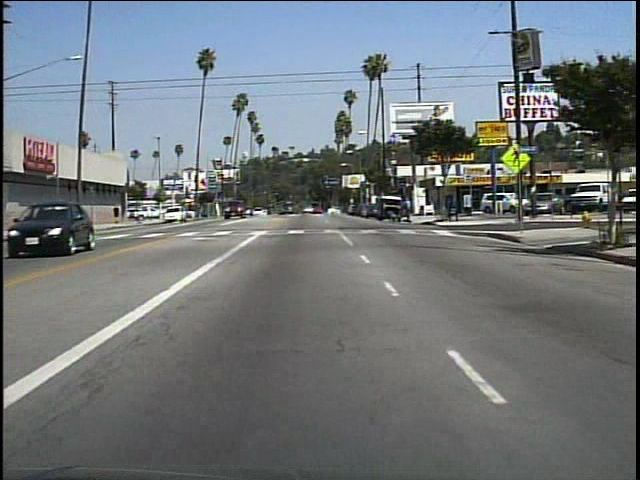person: (401, 194, 416, 225), (110, 199, 123, 225), (386, 208, 402, 227)
